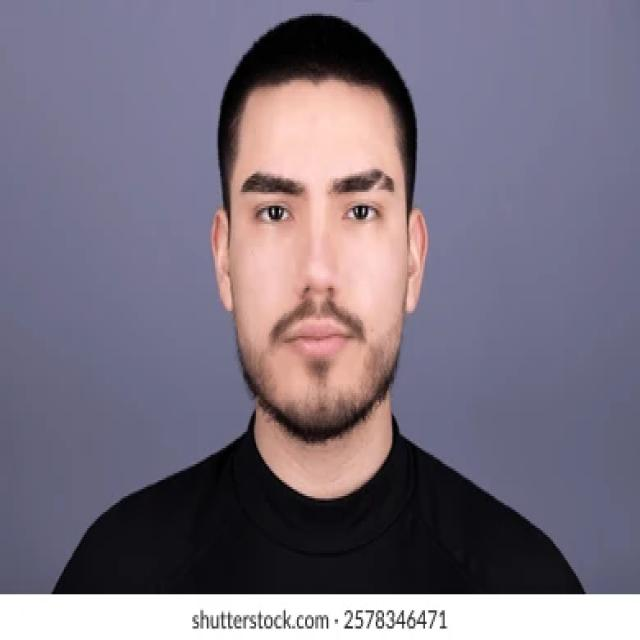sem_oculos: (209, 154, 421, 240)
